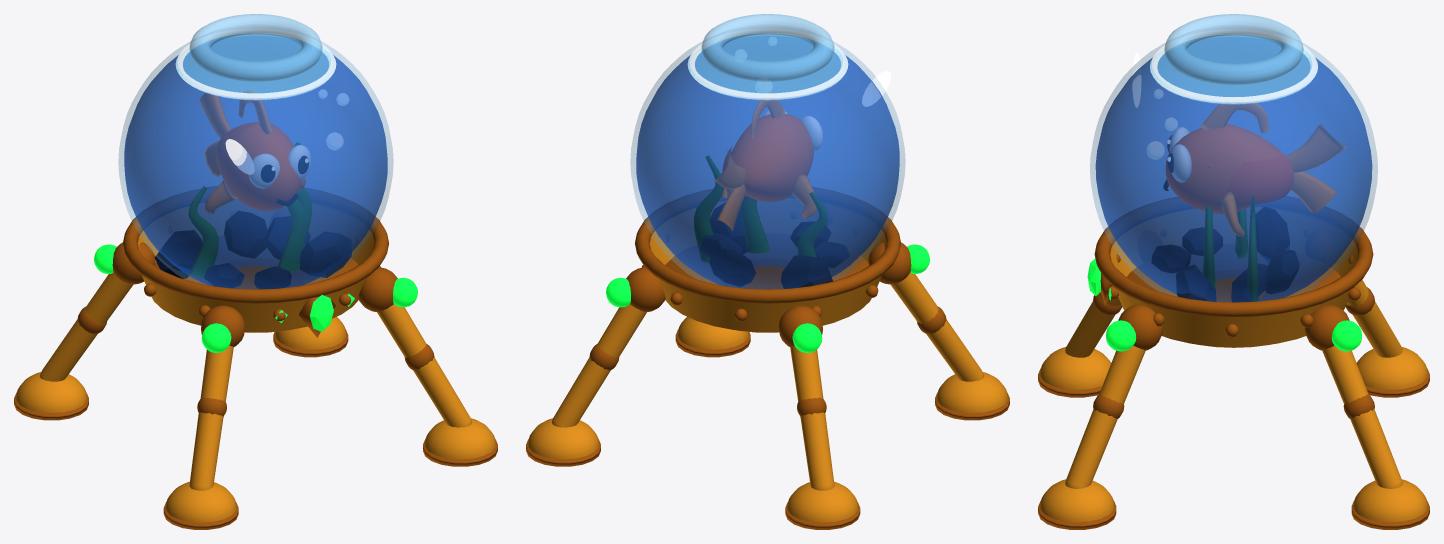
Rendered from fishbowl.glb.
The picture shows the model from 3 angles, left to right: view 1: azimuth 30°, elevation 25°; view 2: azimuth 150°, elevation 25°; view 3: azimuth 270°, elevation 25°; orthographic projection. The views are drawn at different scales.
Visible parts, largest first — view 1: bowl_glass, bowl_water, bowl_surface, bowl_rim, base_lip, base_band, head_fish, leg_-1_1_strut, leg_1_1_strut, leg_-1_-1_strut, bowl_waterline, leg_-1_1_foot (+25 smaller); view 2: bowl_glass, bowl_water, bowl_surface, bowl_rim, base_band, head_fish, base_lip, leg_-1_-1_strut, leg_1_-1_strut, leg_-1_1_strut, bowl_waterline, leg_-1_-1_foot (+25 smaller); view 3: bowl_glass, bowl_water, bowl_surface, bowl_rim, base_band, base_lip, head_fish, leg_1_-1_strut, leg_1_1_strut, bowl_waterline, head_scales, leg_1_-1_foot (+29 smaller).
Boxes of the visible parts, x1,y1,x2,y2 form: bowl_glass: [118, 41, 393, 288]; bowl_water: [124, 55, 387, 289]; bowl_surface: [183, 34, 328, 93]; bowl_rim: [189, 14, 322, 82]; base_lip: [123, 216, 388, 303]; base_band: [137, 230, 374, 332]; head_fish: [216, 122, 300, 210]; leg_-1_1_strut: [189, 345, 233, 490]; leg_1_1_strut: [377, 304, 471, 427]; leg_-1_-1_strut: [39, 272, 133, 381]; bowl_waterline: [175, 29, 336, 100]; leg_-1_1_foot: [166, 481, 236, 522]; bowl_glass: [630, 41, 905, 288]; bowl_water: [636, 55, 899, 289]; bowl_surface: [695, 34, 840, 93]; bowl_rim: [701, 14, 834, 82]; base_band: [649, 230, 886, 332]; head_fish: [732, 114, 813, 201]; base_lip: [635, 216, 900, 303]; leg_-1_-1_strut: [790, 345, 834, 490]; leg_1_-1_strut: [552, 304, 646, 427]; leg_-1_1_strut: [890, 272, 984, 381]; bowl_waterline: [687, 29, 848, 100]; leg_-1_-1_foot: [787, 481, 857, 522]; bowl_glass: [1090, 42, 1377, 301]; bowl_water: [1095, 57, 1372, 302]; bowl_surface: [1157, 35, 1310, 96]; bowl_rim: [1164, 14, 1303, 85]; base_band: [1110, 241, 1357, 347]; base_lip: [1094, 226, 1373, 317]; head_fish: [1166, 124, 1281, 213]; leg_1_-1_strut: [1322, 346, 1402, 488]; leg_1_1_strut: [1065, 346, 1145, 488]; bowl_waterline: [1150, 29, 1317, 104]; head_scales: [1227, 153, 1293, 204]; leg_1_-1_foot: [1353, 479, 1427, 522].
Size of the model in its own units: 1.25 by 1.43 by 1.25.
